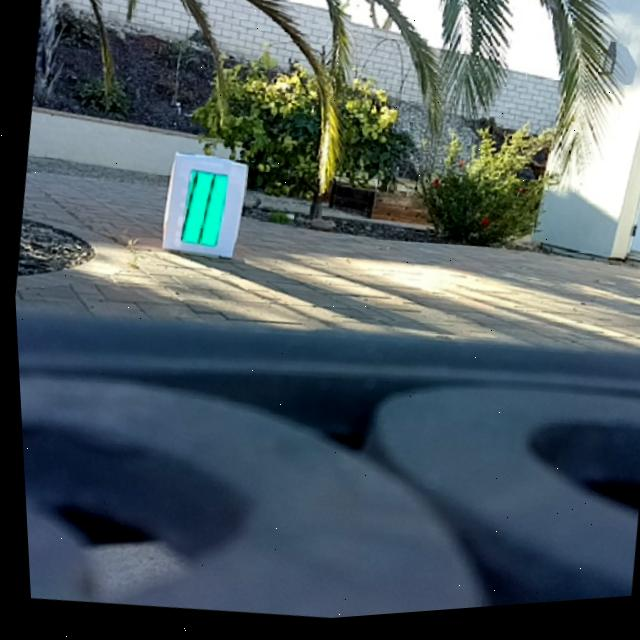led: (176, 171, 228, 253)
